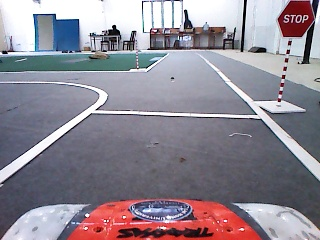stop: (276, 1, 316, 39)
